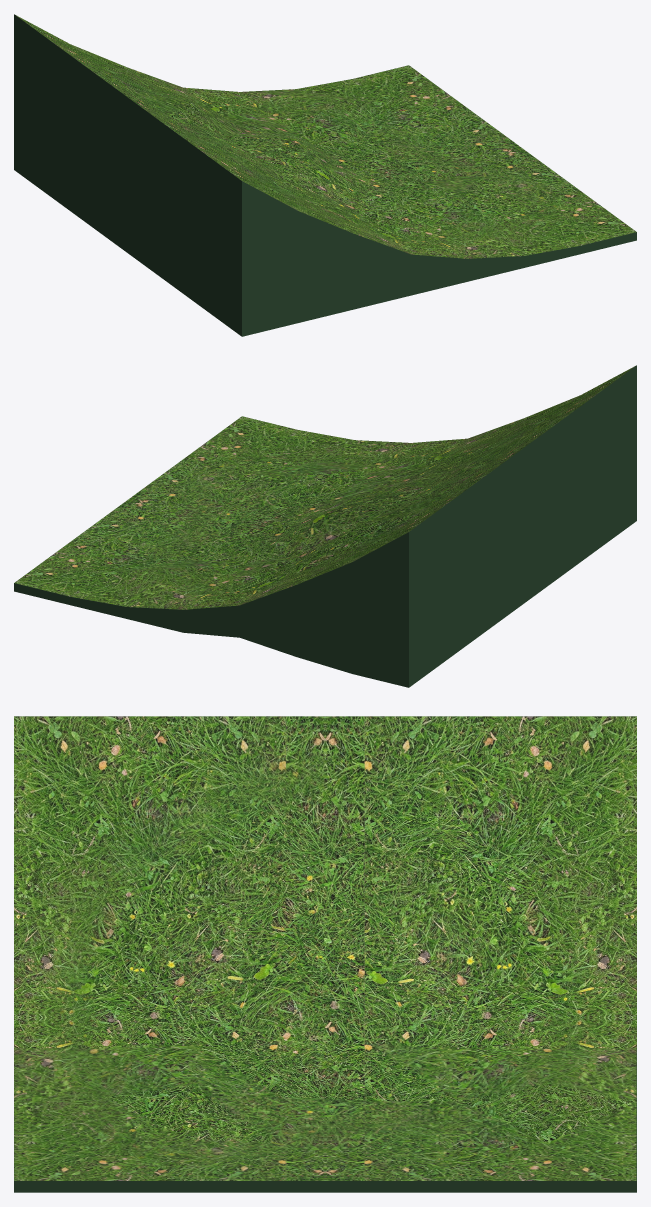
The model's file is mdl_floor02.fbx.
3 views of the same model, one above another, from view 1: azimuth 30°, elevation 25°; view 2: azimuth 150°, elevation 25°; view 3: azimuth 270°, elevation 25° (orthographic). The views are drawn at different scales.
Parts seen in each view (by area): view 1: floor02; view 2: floor02; view 3: floor02.
Part boxes in pixels (x1,y1,x2,y2): floor02: [14, 14, 636, 336]; floor02: [14, 365, 636, 687]; floor02: [14, 716, 636, 1192].
Size of the model in its own units: 2683 by 1011 by 2683.
